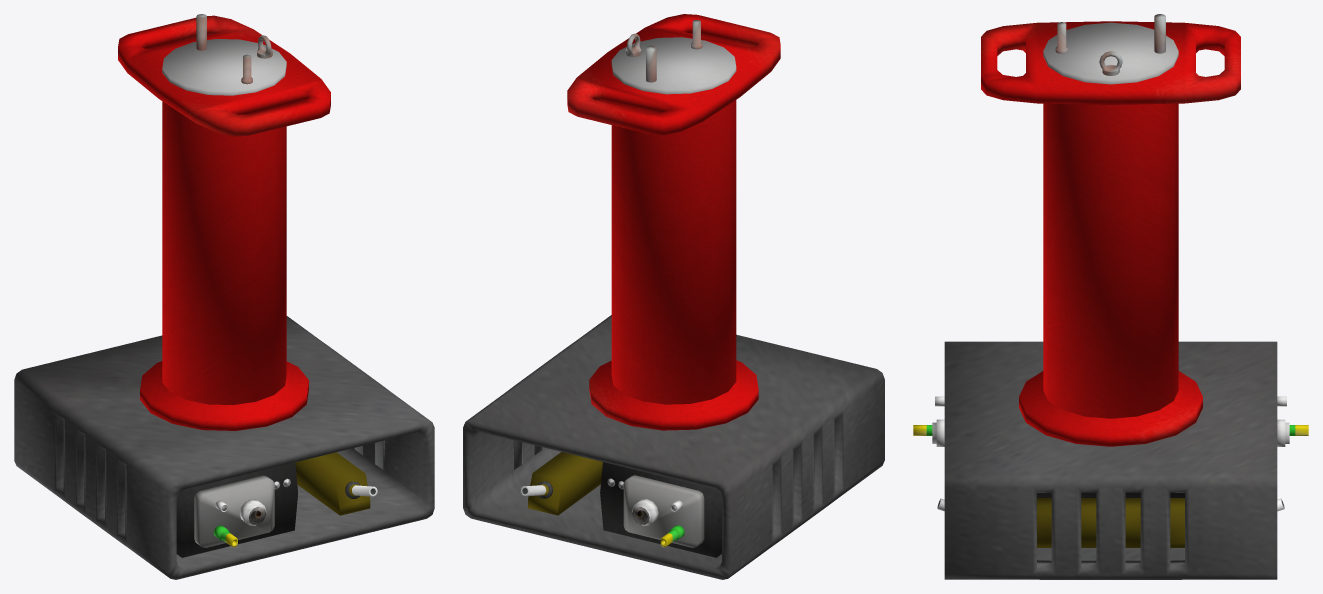
Rendered from vlf_cihaz.fbx.
3 views of the same model, side by side, from view 1: azimuth 30°, elevation 25°; view 2: azimuth 150°, elevation 25°; view 3: azimuth 270°, elevation 25° (orthographic). The views are drawn at different scales.
Parts seen in each view (by area): view 1: Partial_discharge_measuring_system; view 2: Partial_discharge_measuring_system; view 3: Partial_discharge_measuring_system.
Part boxes in pixels (x1,y1,x2,y2): Partial_discharge_measuring_system: (14, 14, 434, 579); Partial_discharge_measuring_system: (463, 14, 884, 579); Partial_discharge_measuring_system: (913, 14, 1308, 579).
Bounding box in the file's own units: 2 × 2.38 × 3.3.
Materials: 1 (1 with a texture image).
